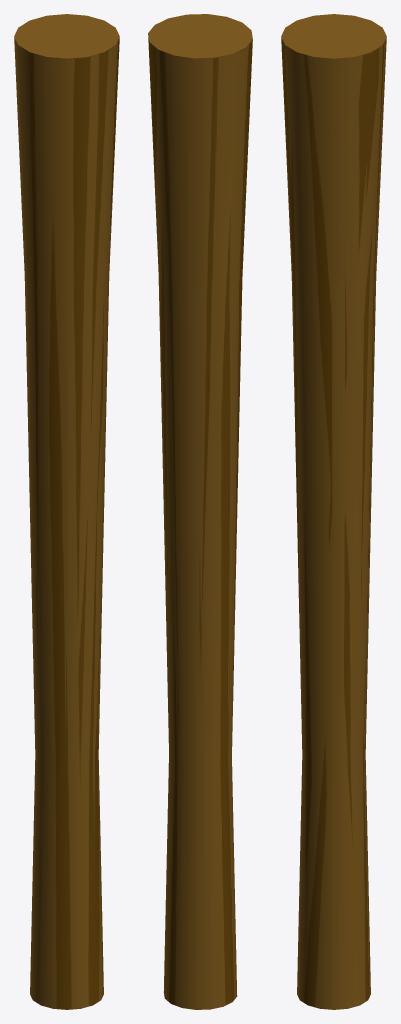
The model's file is toolHandle.obj.
The picture shows the model from 3 angles, left to right: view 1: azimuth 90°, elevation 25°; view 2: azimuth 150°, elevation 25°; view 3: azimuth 270°, elevation 25°; orthographic projection.
Visible parts, largest first — view 1: Cylinder; view 2: Cylinder; view 3: Cylinder.
Part boxes in pixels (x1=…): Cylinder: x1=14, y1=14, x2=119, y2=1009; Cylinder: x1=148, y1=14, x2=252, y2=1009; Cylinder: x1=281, y1=14, x2=386, y2=1009.
Bounding box in the file's own units: 0.2 × 2 × 0.2.
1 material, 1 textured.
